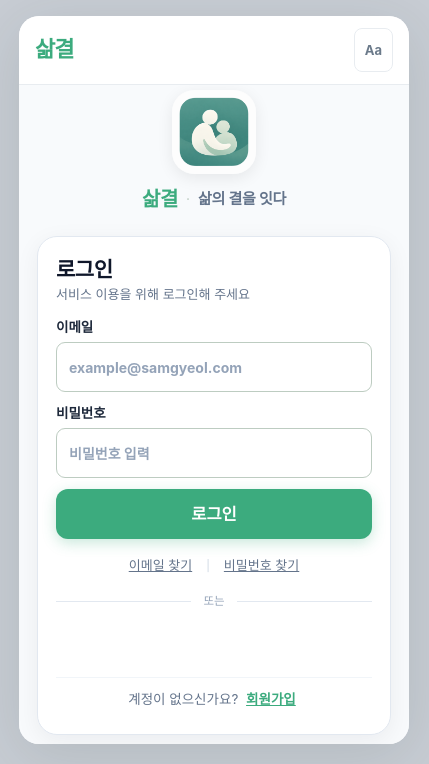
Test: /records 직접 진입 시 인증 헤더와 함께 당사자를 조회한다
In the field labelled "이메일": point(214, 367) [56, 342, 372, 392], type "test@example.com"
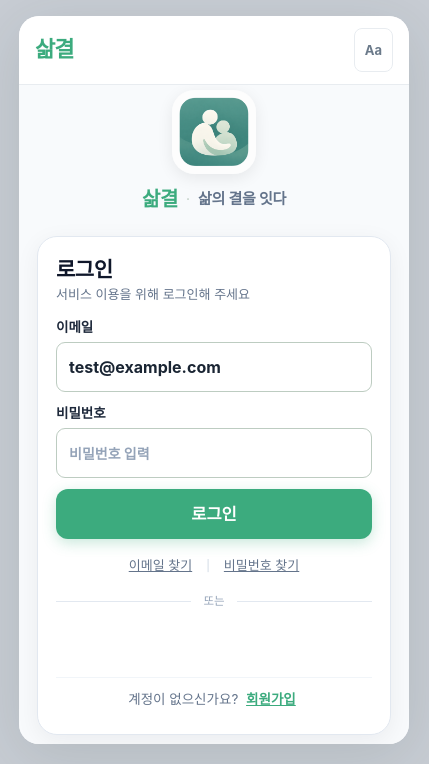
In the password field labelled "비밀번호": point(214, 453) [56, 428, 372, 478], type "test-password"
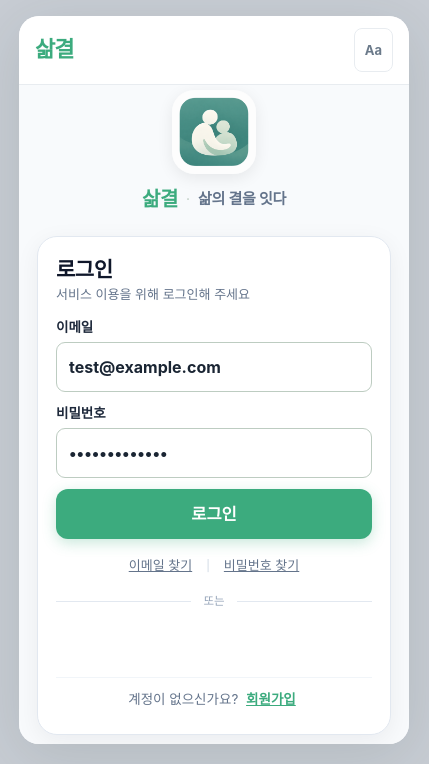
Click the button "로그인": point(214, 514) [56, 489, 372, 539]
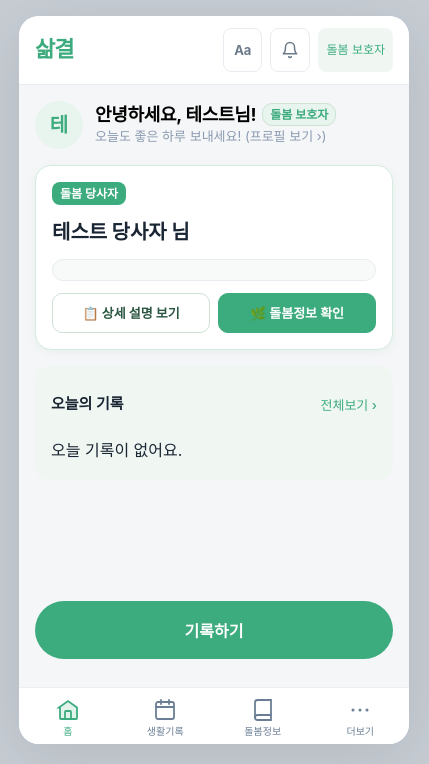
Now the heading "테스트 당사자 님" is shown, box [52, 217, 190, 247]
